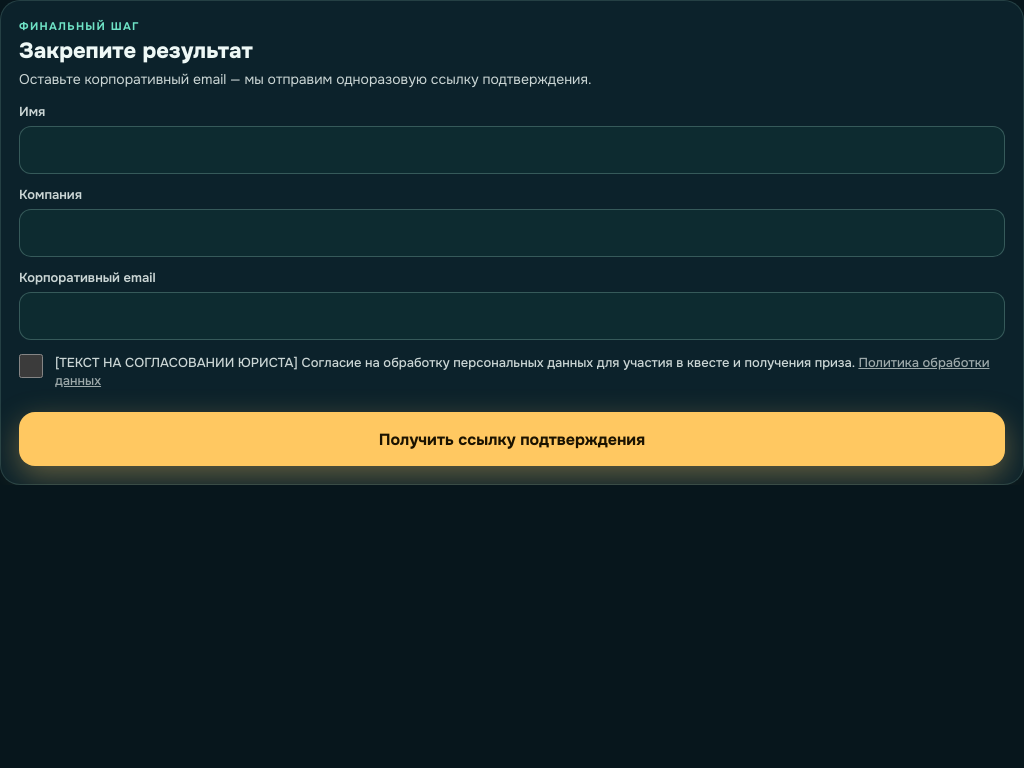
Test case: ClaimForm › returns to an actionable form after a network failure
Type "Иван" into the field labelled "Имя". click: (512, 150)
box: [19,126,1005,174]
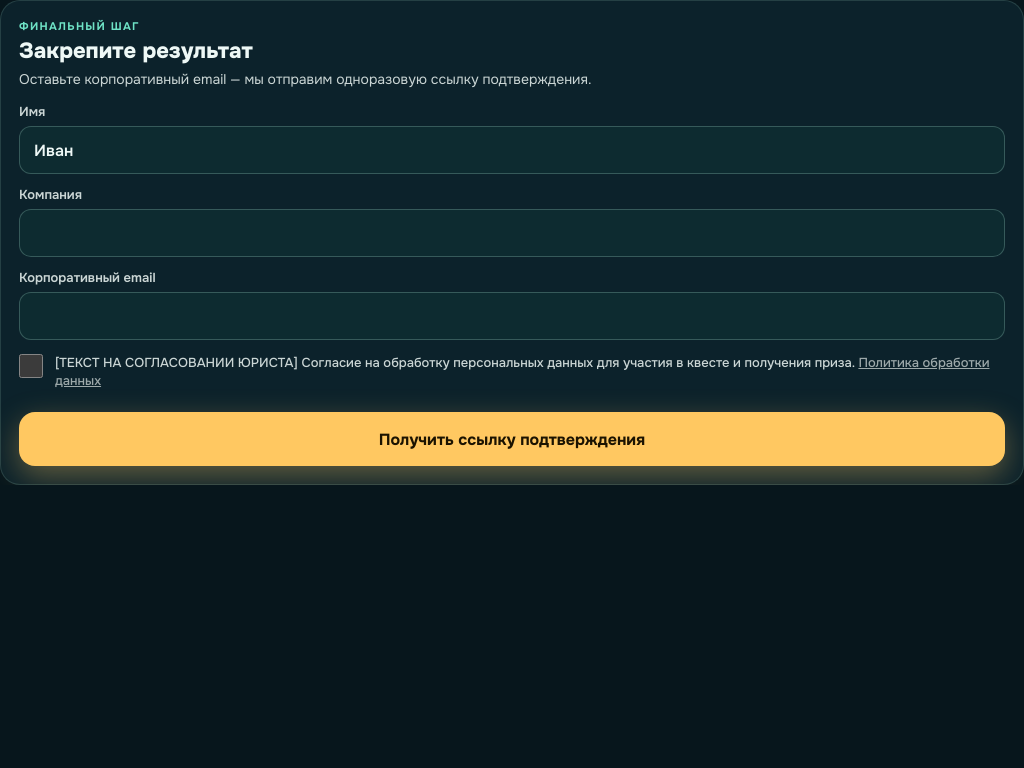
Type "Партнёр" into the field labelled "Компания". click: (512, 233)
box: [19,209,1005,257]
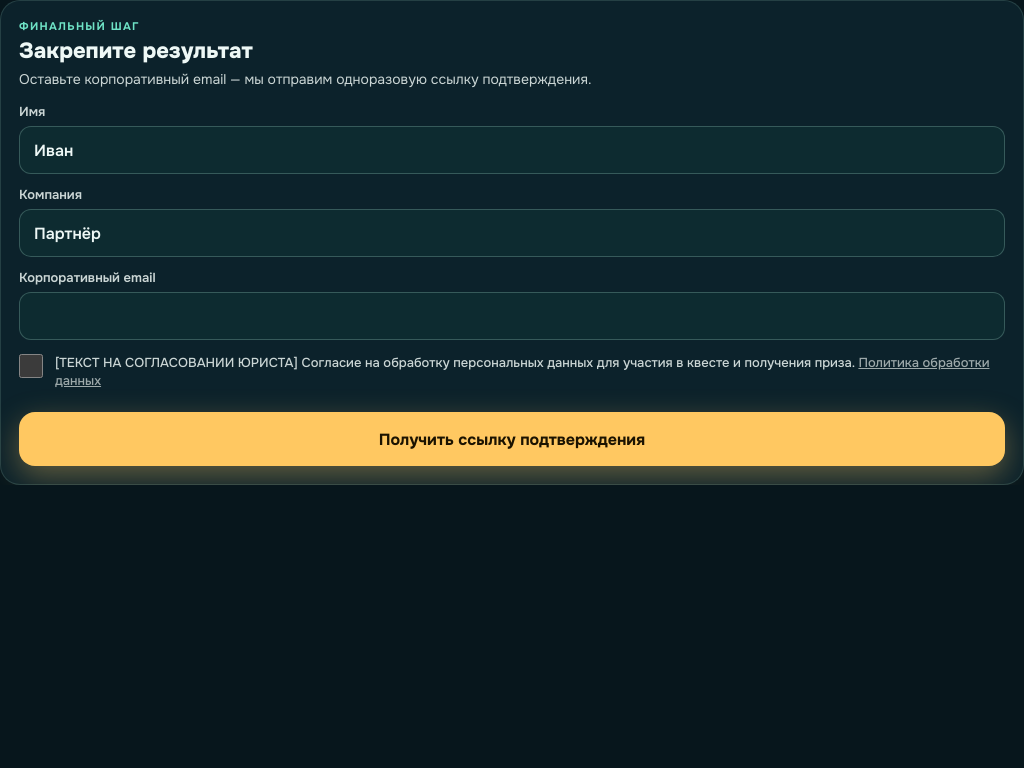
Type "ivan@example.com" into the field labelled "Корпоративный email". click: (512, 316)
box: [19,292,1005,340]
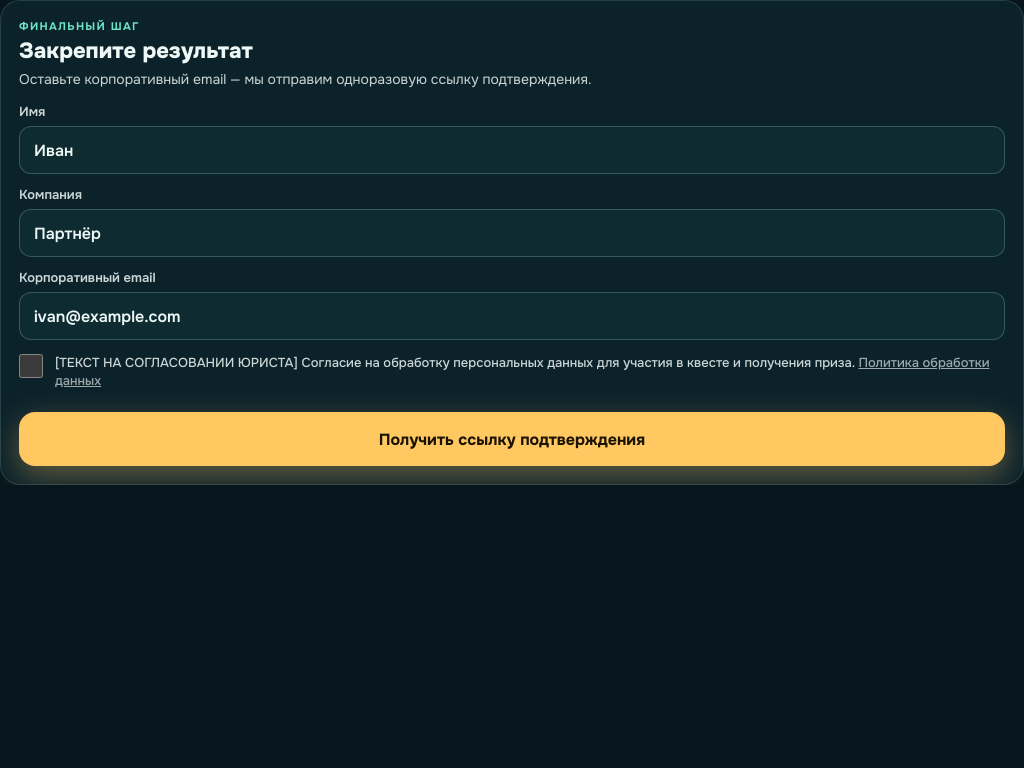
Click the checkbox. click: (31, 366)
box: [19,354,43,378]
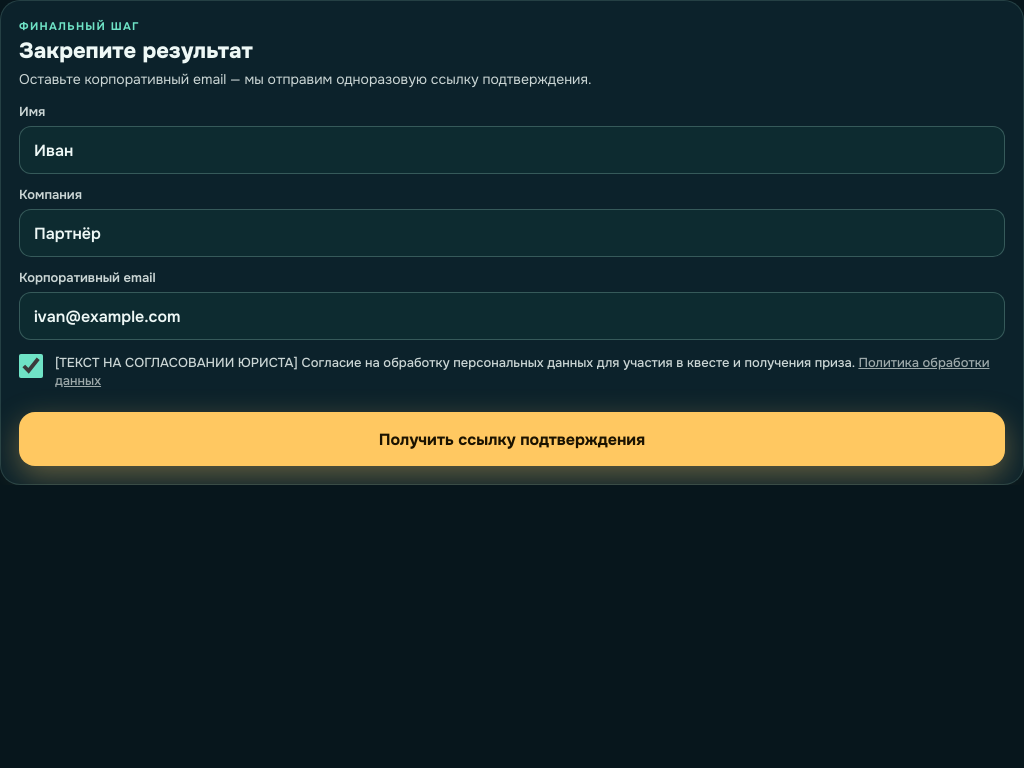
Submit the form named "Получить ссылку подтверждения"
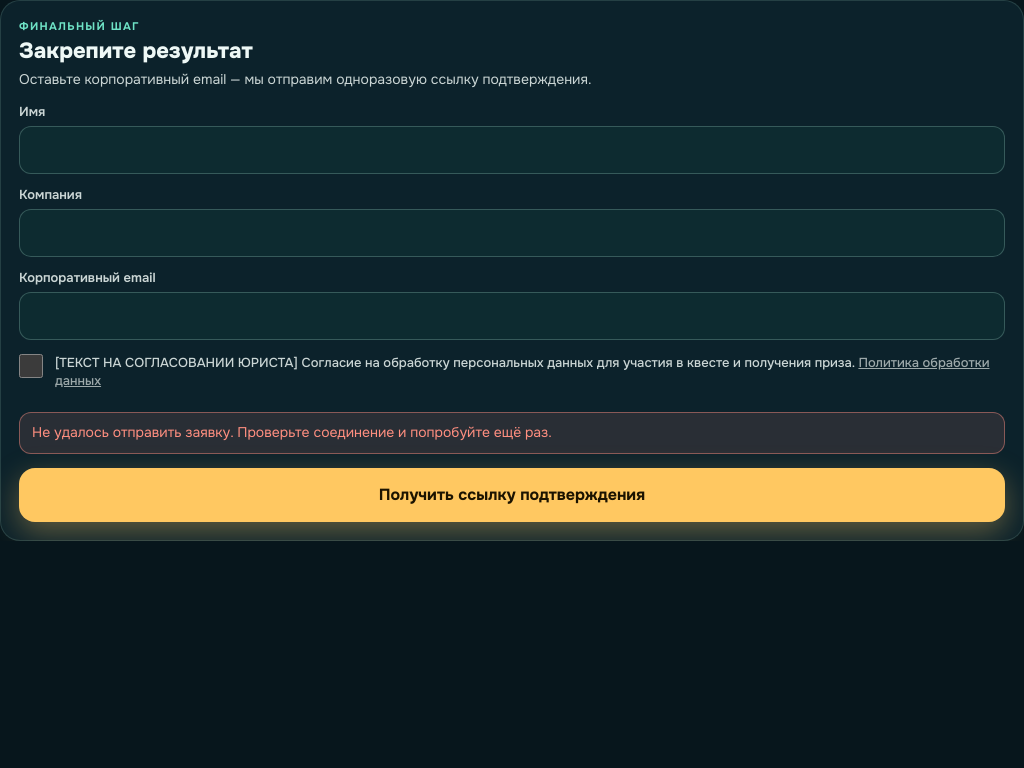
expect the button "Получить ссылку подтверждения" is enabled: met, box [19,468,1005,522]
expect the message shows "Не удалось отправить заявку": met, box [32,423,552,441]
